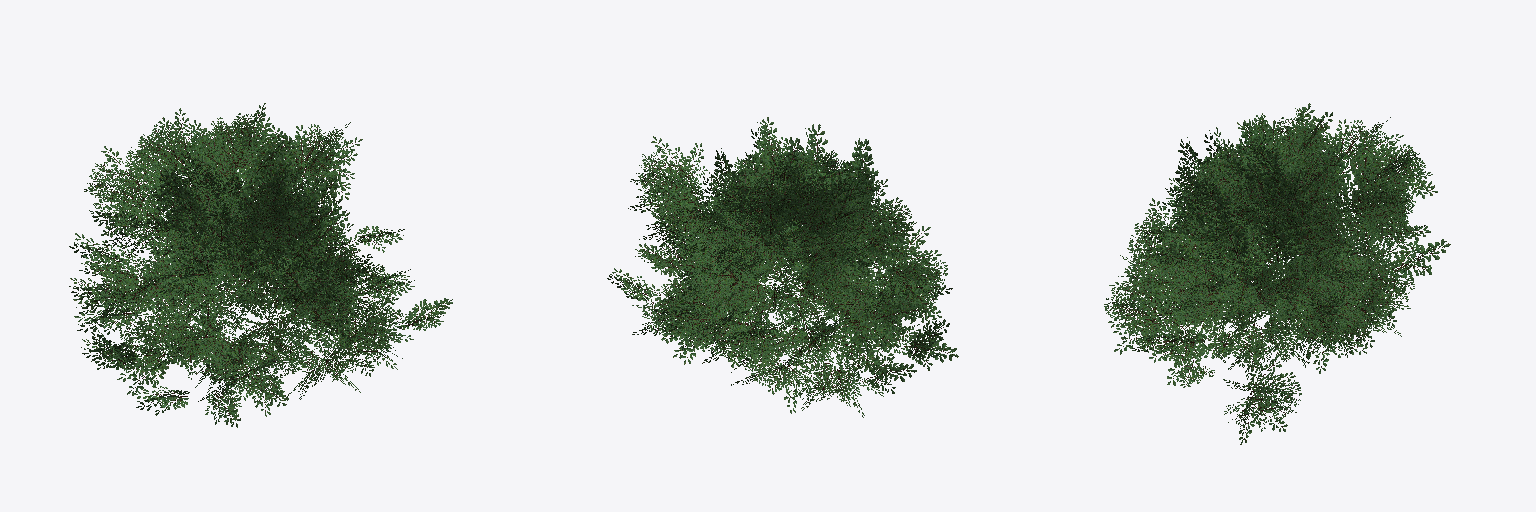
3 renders of one model, left to right at view 1: azimuth 30°, elevation 25°; view 2: azimuth 150°, elevation 25°; view 3: azimuth 270°, elevation 25°, orthographic.
Visible parts, largest first — view 1: Plane.227_Plane.279, Plane.251_Plane.304, Plane.230_Plane.280, Plane.313_Plane.340, Plane.294_Plane.321, Plane.257_Plane.312, Plane.252_Plane.305, Plane.222_Plane.306, Plane.267_Plane.255, Plane.236_Plane.287, Plane.285_Plane.282, Plane.300_Plane.327 (+28 smaller); view 2: Plane.287_Plane.300, Plane.227_Plane.279, Plane.256_Plane.311, Plane.315_Plane.342, Plane.230_Plane.280, Plane.313_Plane.340, Plane.269_Plane.258, Plane.257_Plane.312, Plane.226_Plane.278, Plane.297_Plane.324, Plane.285_Plane.282, Plane.251_Plane.304 (+26 smaller); view 3: Plane.222_Plane.306, Plane.253_Plane.308, Plane.266_Plane.254, Plane.285_Plane.282, Plane.267_Plane.255, Plane.315_Plane.342, Plane.252_Plane.305, Plane.299_Plane.326, Plane.223_Plane.307, Plane.312_Plane.339, Plane.246_Plane.297, Plane.314_Plane.341 (+28 smaller).
Part boxes in pixels (x1,y1,x2,y2): Plane.227_Plane.279: (87,243,177,332); Plane.251_Plane.304: (84,146,159,237); Plane.230_Plane.280: (102,187,190,269); Plane.313_Plane.340: (269,122,362,199); Plane.294_Plane.321: (190,330,284,416); Plane.257_Plane.312: (113,302,188,395); Plane.252_Plane.305: (129,108,222,195); Plane.222_Plane.306: (314,297,405,381); Plane.267_Plane.255: (282,278,364,349); Plane.236_Plane.287: (224,309,325,392); Plane.285_Plane.282: (186,103,289,171); Plane.300_Plane.327: (258,258,340,336); Plane.287_Plane.300: (697,293,779,380); Plane.227_Plane.279: (874,226,947,318); Plane.256_Plane.311: (761,302,853,378); Plane.315_Plane.342: (654,275,727,358); Plane.230_Plane.280: (835,179,912,279); Plane.313_Plane.340: (630,136,707,225); Plane.269_Plane.258: (759,260,854,340); Plane.257_Plane.312: (783,341,883,417); Plane.226_Plane.278: (805,244,877,336); Plane.297_Plane.324: (718,261,819,328); Plane.285_Plane.282: (646,173,733,259); Plane.251_Plane.304: (772,210,865,289); Plane.222_Plane.306: (1132,298,1205,385); Plane.253_Plane.308: (1223,352,1301,444); Plane.266_Plane.254: (1104,266,1178,354); Plane.285_Plane.282: (1332,157,1409,255); Plane.267_Plane.255: (1118,235,1194,328); Plane.315_Plane.342: (1306,276,1410,357); Plane.252_Plane.305: (1350,130,1434,225); Plane.299_Plane.326: (1269,151,1357,233); Plane.223_Plane.307: (1158,249,1243,349); Plane.312_Plane.339: (1338,167,1413,263); Plane.246_Plane.297: (1277,191,1365,285); Plane.314_Plane.341: (1262,286,1368,367).
Size of the model in its own units: 7.32 by 5.09 by 6.23.
1 materials, 1 textured.